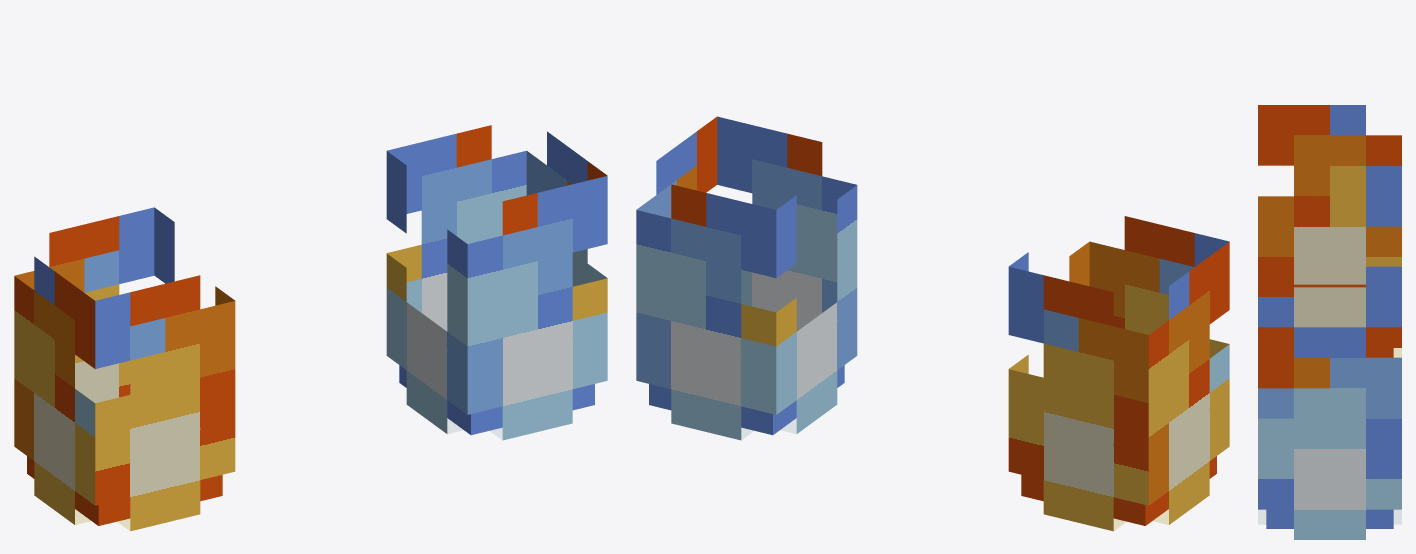
Rendered from sl_legacy_mixed_fire_fists.glb.
3 renders of one model, left to right at view 1: azimuth 30°, elevation 25°; view 2: azimuth 150°, elevation 25°; view 3: azimuth 270°, elevation 25°, orthographic. The views are drawn at different scales.
Visible parts, largest first — view 1: bb_legacy_mixed_fire_fists; view 2: bb_legacy_mixed_fire_fists; view 3: bb_legacy_mixed_fire_fists.
Boxes of the visible parts, box(x1,y1,x2,y2) form: bb_legacy_mixed_fire_fists: box(14, 125, 607, 531); bb_legacy_mixed_fire_fists: box(636, 116, 1229, 531); bb_legacy_mixed_fire_fists: box(1258, 105, 1401, 539).
Size of the model in its own units: 1.03 by 0.6575 by 0.2825.
1 material, 1 textured.
